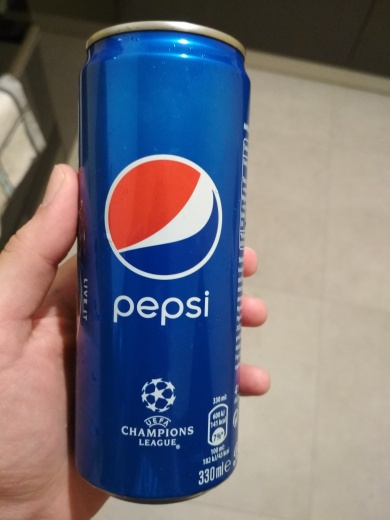pepsi: (54, 15, 254, 508)
